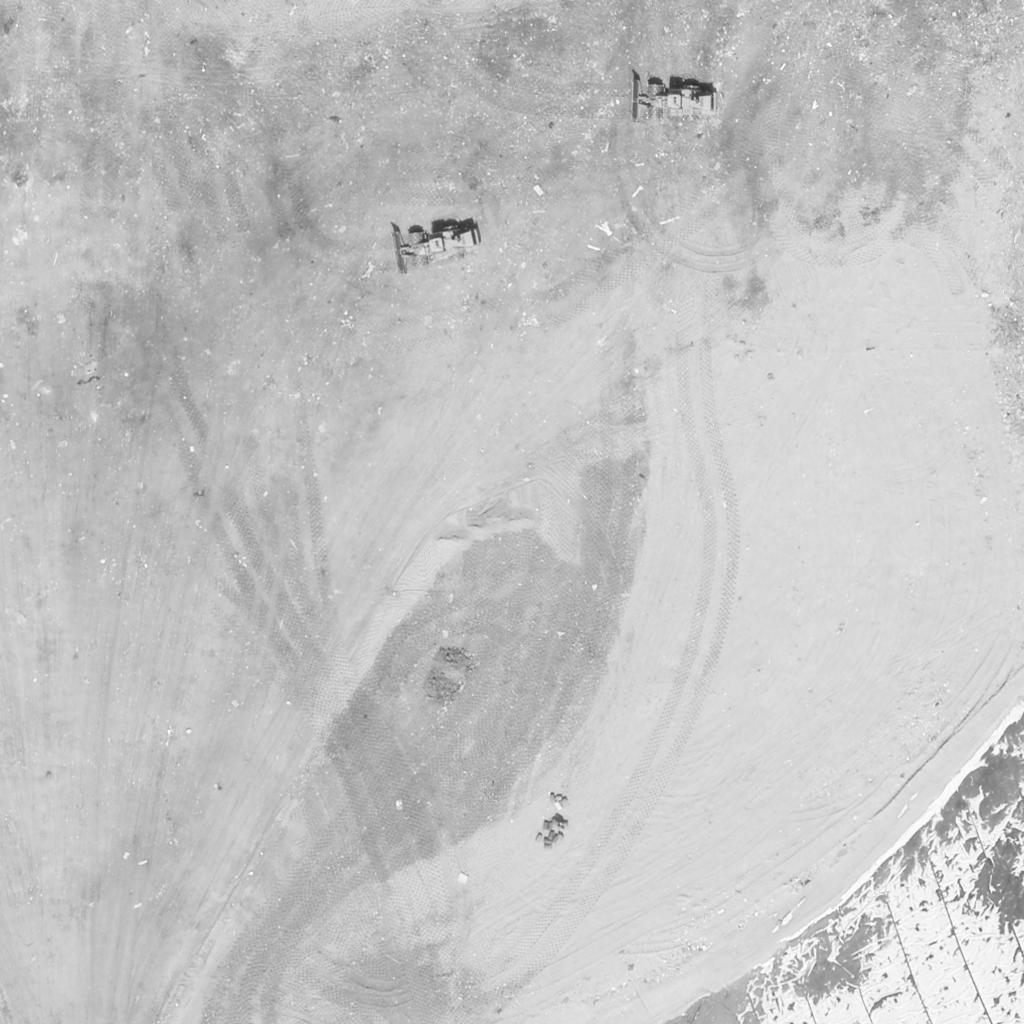vehicle: (392, 219, 482, 271), (631, 70, 717, 124)
